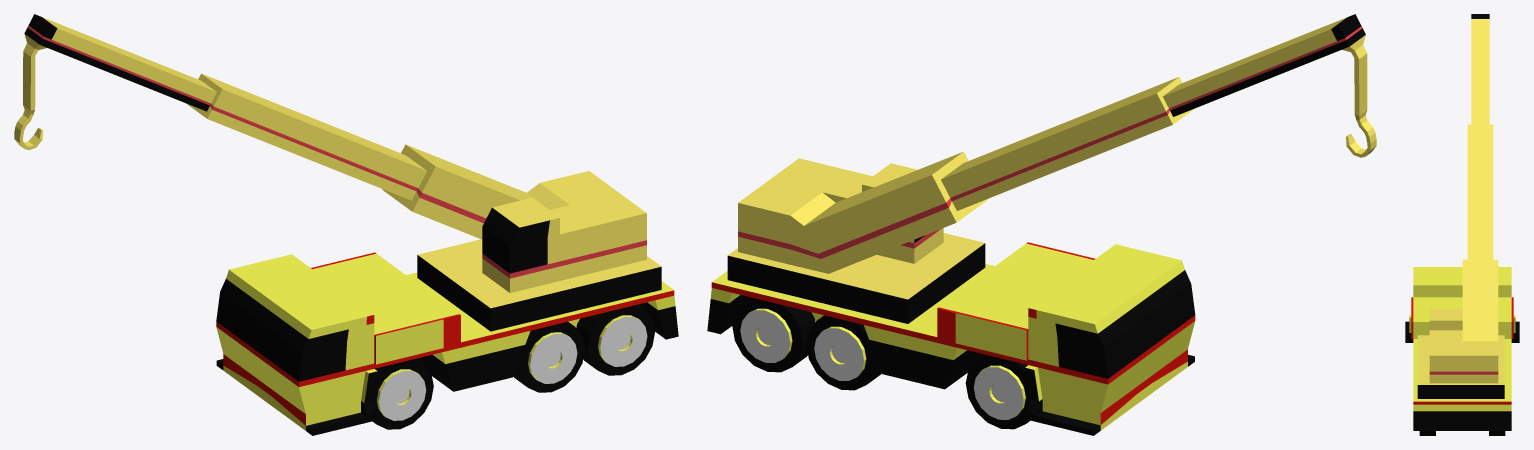
The model's file is dcar.fbx.
3 views of the same model, side by side, from view 1: azimuth 30°, elevation 25°; view 2: azimuth 150°, elevation 25°; view 3: azimuth 270°, elevation 25° (orthographic). The views are drawn at different scales.
Visible parts, largest first — view 1: car, diao; view 2: car, diao; view 3: diao, car.
Part boxes in pixels (x1,y1,x2,y2): car: (216,252,678,435); diao: (14,14,661,331); car: (707,242,1195,435); diao: (727,14,1376,323); diao: (1417,14,1504,398); car: (1405,267,1519,435).
Size of the model in its own units: 1268 by 895 by 348.
